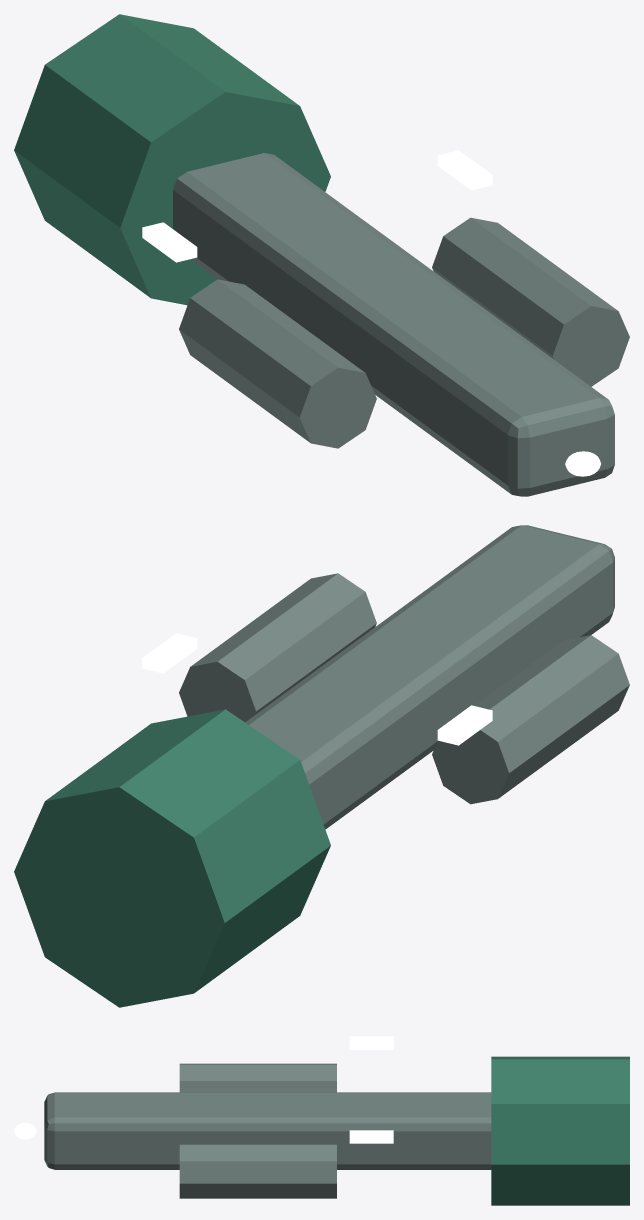
3 renders of one model, top to bottom at view 1: azimuth 30°, elevation 25°; view 2: azimuth 150°, elevation 25°; view 3: azimuth 270°, elevation 25°, orthographic. The views are drawn at different scales.
Visible parts, largest first — view 1: RIMWARD_HULL, RIMWARD_EMISSIVE, RIMWARD_ENGINE_GLOW; view 2: RIMWARD_HULL, RIMWARD_EMISSIVE; view 3: RIMWARD_HULL, RIMWARD_EMISSIVE, RIMWARD_ENGINE_GLOW.
Part boxes in pixels (x1=…): RIMWARD_HULL: x1=14, y1=14, x2=629, y2=496; RIMWARD_EMISSIVE: x1=142, y1=150, x2=492, y2=262; RIMWARD_ENGINE_GLOW: x1=565, y1=451, x2=600, y2=476; RIMWARD_HULL: x1=14, y1=525, x2=629, y2=1007; RIMWARD_EMISSIVE: x1=142, y1=633, x2=492, y2=745; RIMWARD_HULL: x1=44, y1=1056, x2=629, y2=1205; RIMWARD_EMISSIVE: x1=349, y1=1036, x2=393, y2=1143; RIMWARD_ENGINE_GLOW: x1=14, y1=1122, x2=36, y2=1139.
Bounding box in the file's own units: 3.08 × 1.97 × 7.63.
